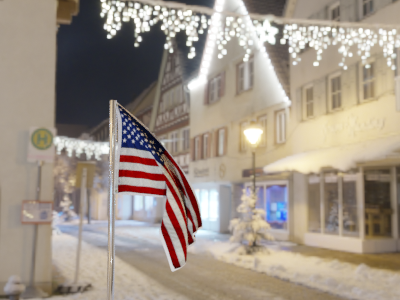America flag: (117, 103, 204, 273)
